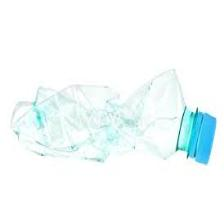plastic: (11, 69, 218, 165)
